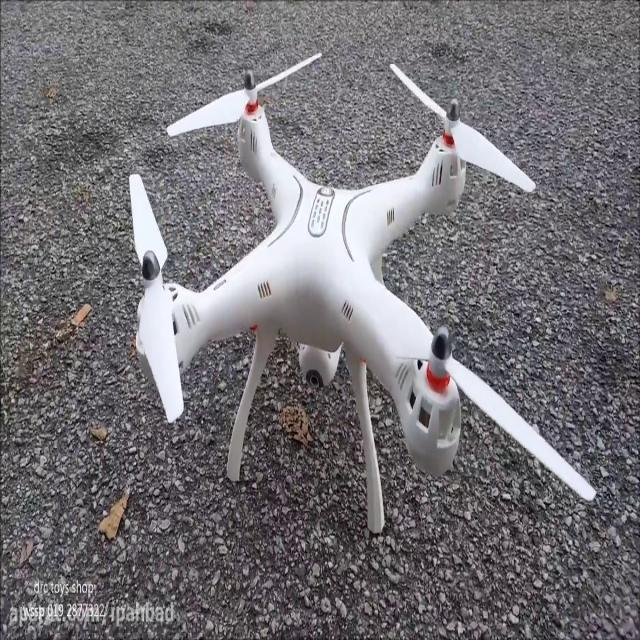drone: (125, 47, 600, 536)
